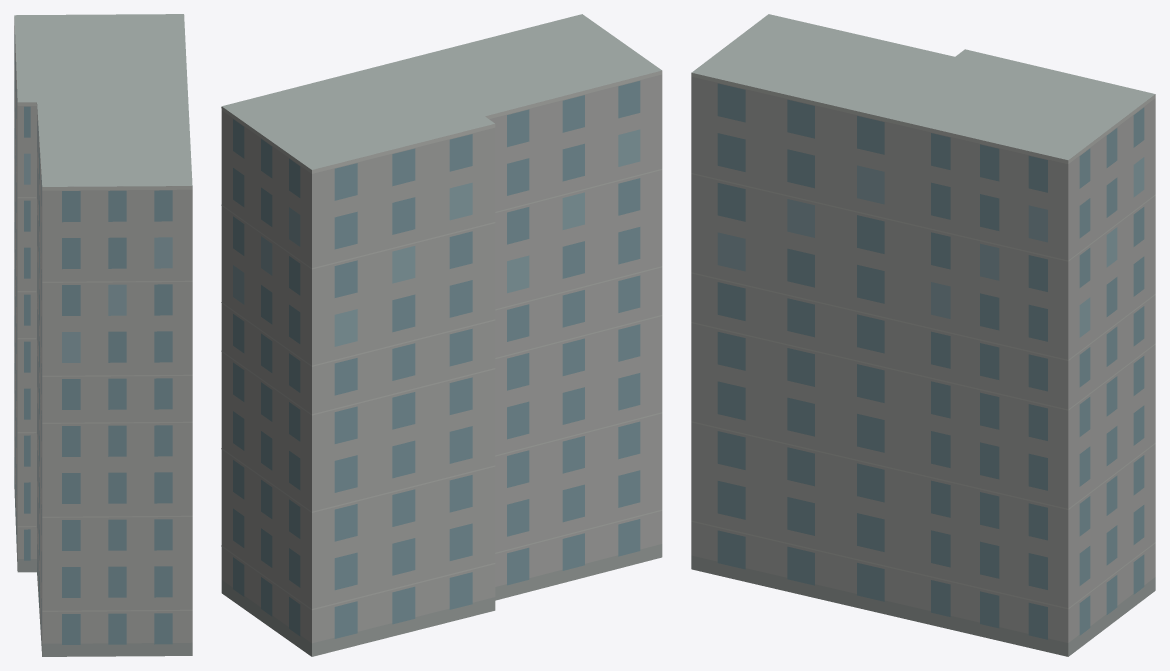
File: residential-eee046c7-d135-42ed-a85b-adb8870b5369.glb
3 renders of one model, left to right at view 1: azimuth 30°, elevation 25°; view 2: azimuth 150°, elevation 25°; view 3: azimuth 270°, elevation 25°, orthographic. The views are drawn at different scales.
Parts seen in each view (by area): view 1: residential-eee046c7-d135-42ed-a85b-adb8870b5369.tmp; view 2: residential-eee046c7-d135-42ed-a85b-adb8870b5369.tmp; view 3: residential-eee046c7-d135-42ed-a85b-adb8870b5369.tmp.
Boxes of the visible parts, x1,y1,x2,y2 form: residential-eee046c7-d135-42ed-a85b-adb8870b5369.tmp: (14, 14, 192, 656); residential-eee046c7-d135-42ed-a85b-adb8870b5369.tmp: (221, 14, 662, 656); residential-eee046c7-d135-42ed-a85b-adb8870b5369.tmp: (691, 14, 1155, 656).
Size of the model in its own units: 19.29 by 30.5 by 25.85.
